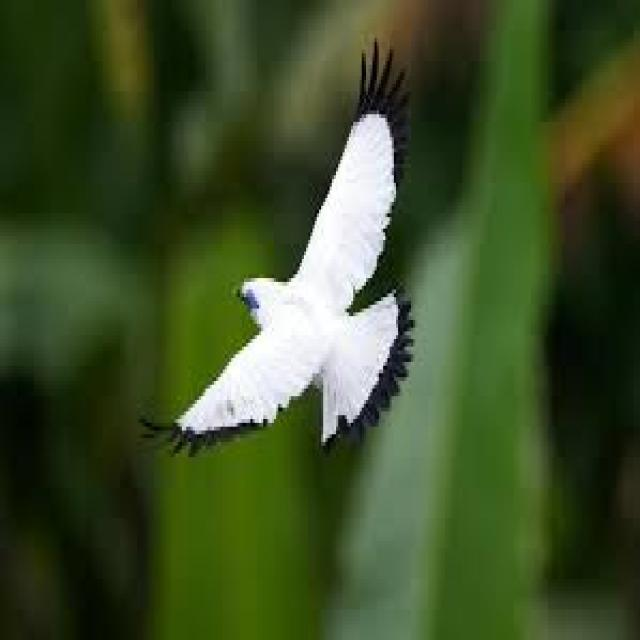Jalak Bali: (124, 14, 447, 512)
